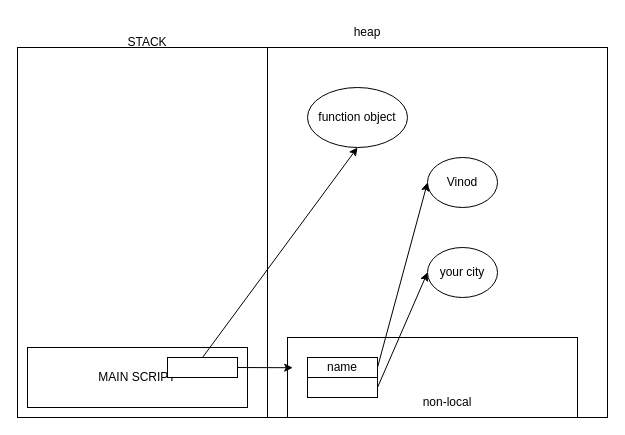
The diagram is 625 pixels wide and 435 high, and some of its shapes have lost their labels. The shapes that lost their labels are listed below. From the top down, each one's centre as x and y in pixels, then its label:
At (x=202, y=367): "fun1".
At (x=342, y=387): "city".
